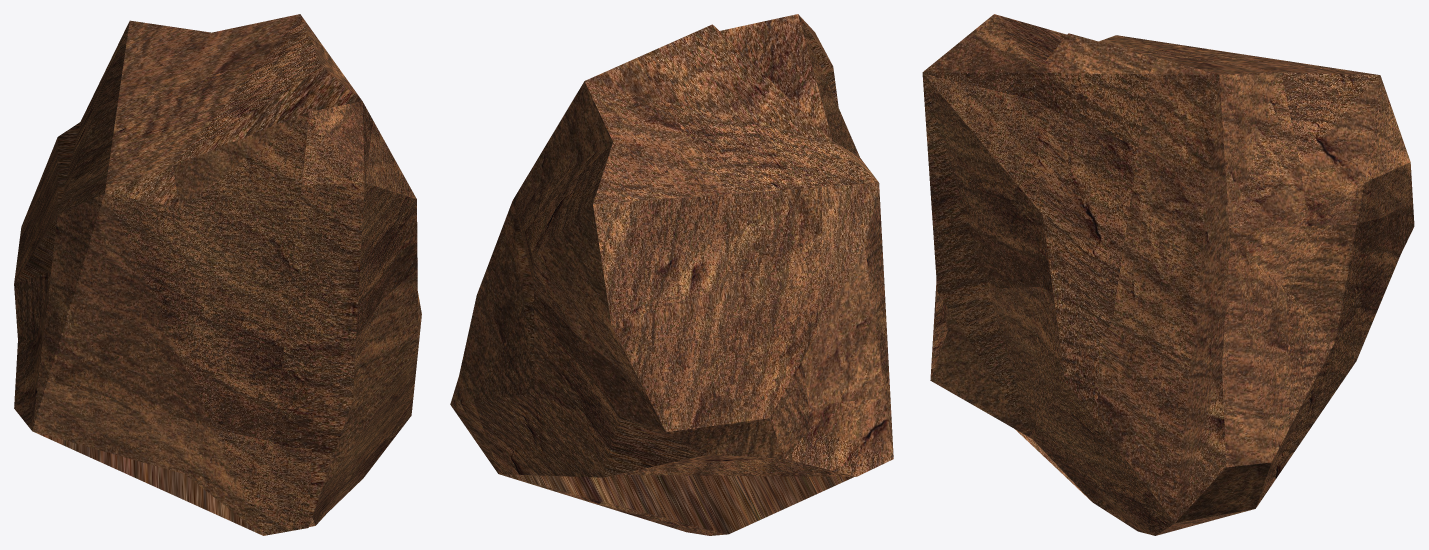
The model's file is rock1.obj.
3 renders of one model, left to right at view 1: azimuth 30°, elevation 25°; view 2: azimuth 150°, elevation 25°; view 3: azimuth 270°, elevation 25°, orthographic.
Visible parts, largest first — view 1: Sphere.001; view 2: Sphere.001; view 3: Sphere.001.
Part boxes in pixels (<box>): Sphere.001: <box>14,14,421,535</box>; Sphere.001: <box>450,14,893,535</box>; Sphere.001: <box>922,14,1414,535</box>.
Bounding box in the file's own units: 2.06 × 2.3 × 2.12.
Materials: 1 (1 with a texture image).
